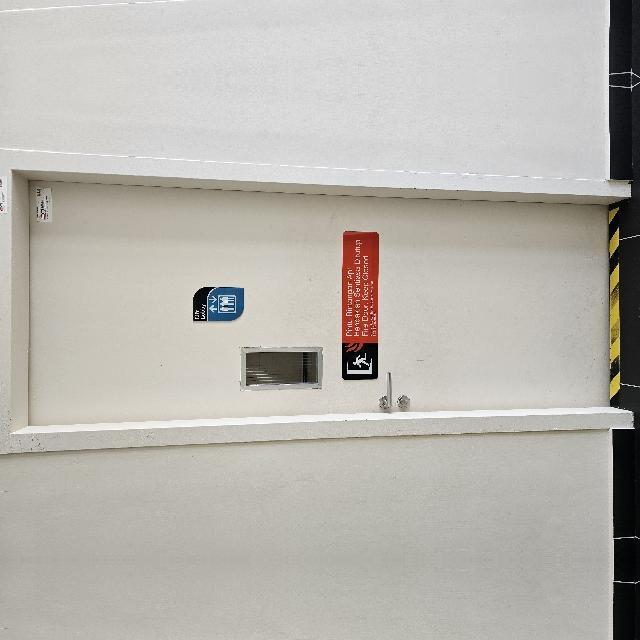door: (95, 80, 417, 640), (95, 400, 417, 640), (95, 0, 417, 80)
